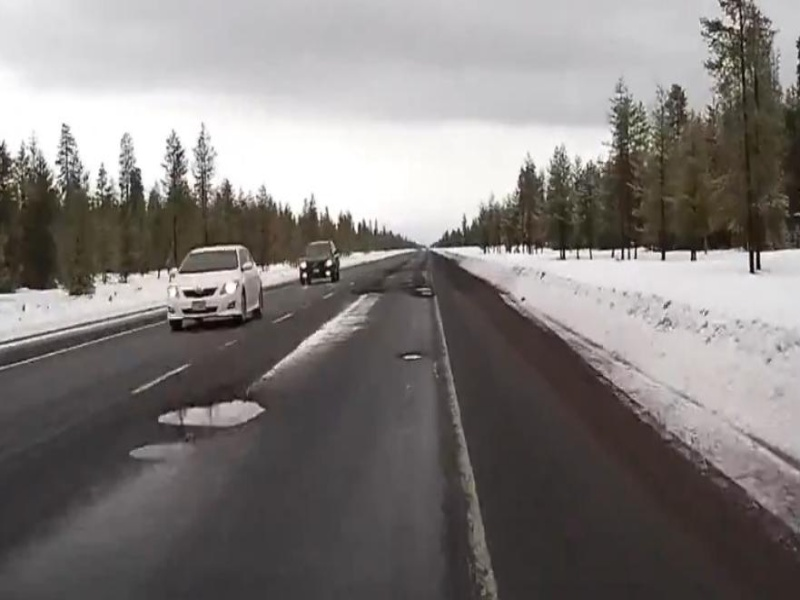pothole: (155, 393, 268, 430), (127, 434, 200, 465), (396, 347, 424, 362)
